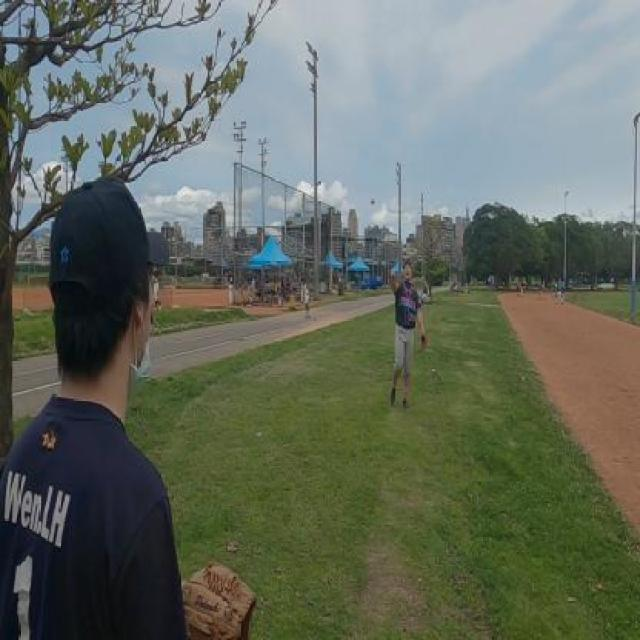baseball: (371, 197, 375, 205)
